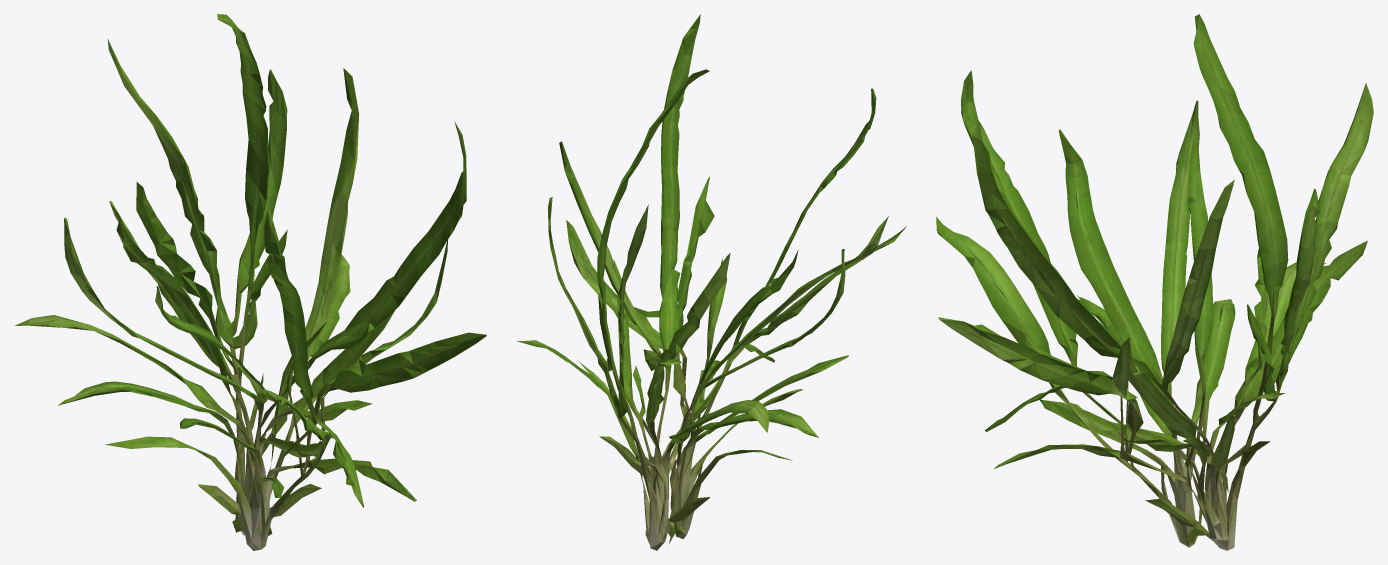
Rendered from cryptocoryne-balansae.glb.
The picture shows the model from 3 angles, left to right: view 1: azimuth 30°, elevation 25°; view 2: azimuth 150°, elevation 25°; view 3: azimuth 270°, elevation 25°; orthographic projection. The views are drawn at different scales.
Visible parts, largest first — view 1: tripo_node_ddc57c72-ca9b-41ca-bfb3-a1ec6d3a0e31; view 2: tripo_node_ddc57c72-ca9b-41ca-bfb3-a1ec6d3a0e31; view 3: tripo_node_ddc57c72-ca9b-41ca-bfb3-a1ec6d3a0e31.
Boxes of the visible parts, <box> form: tripo_node_ddc57c72-ca9b-41ca-bfb3-a1ec6d3a0e31: <box>14,14,486,550</box>; tripo_node_ddc57c72-ca9b-41ca-bfb3-a1ec6d3a0e31: <box>517,14,906,550</box>; tripo_node_ddc57c72-ca9b-41ca-bfb3-a1ec6d3a0e31: <box>936,14,1373,550</box>.
Size of the model in its own units: 0.6618 by 0.9829 by 0.7528.
Materials: 1 (1 with a texture image).
